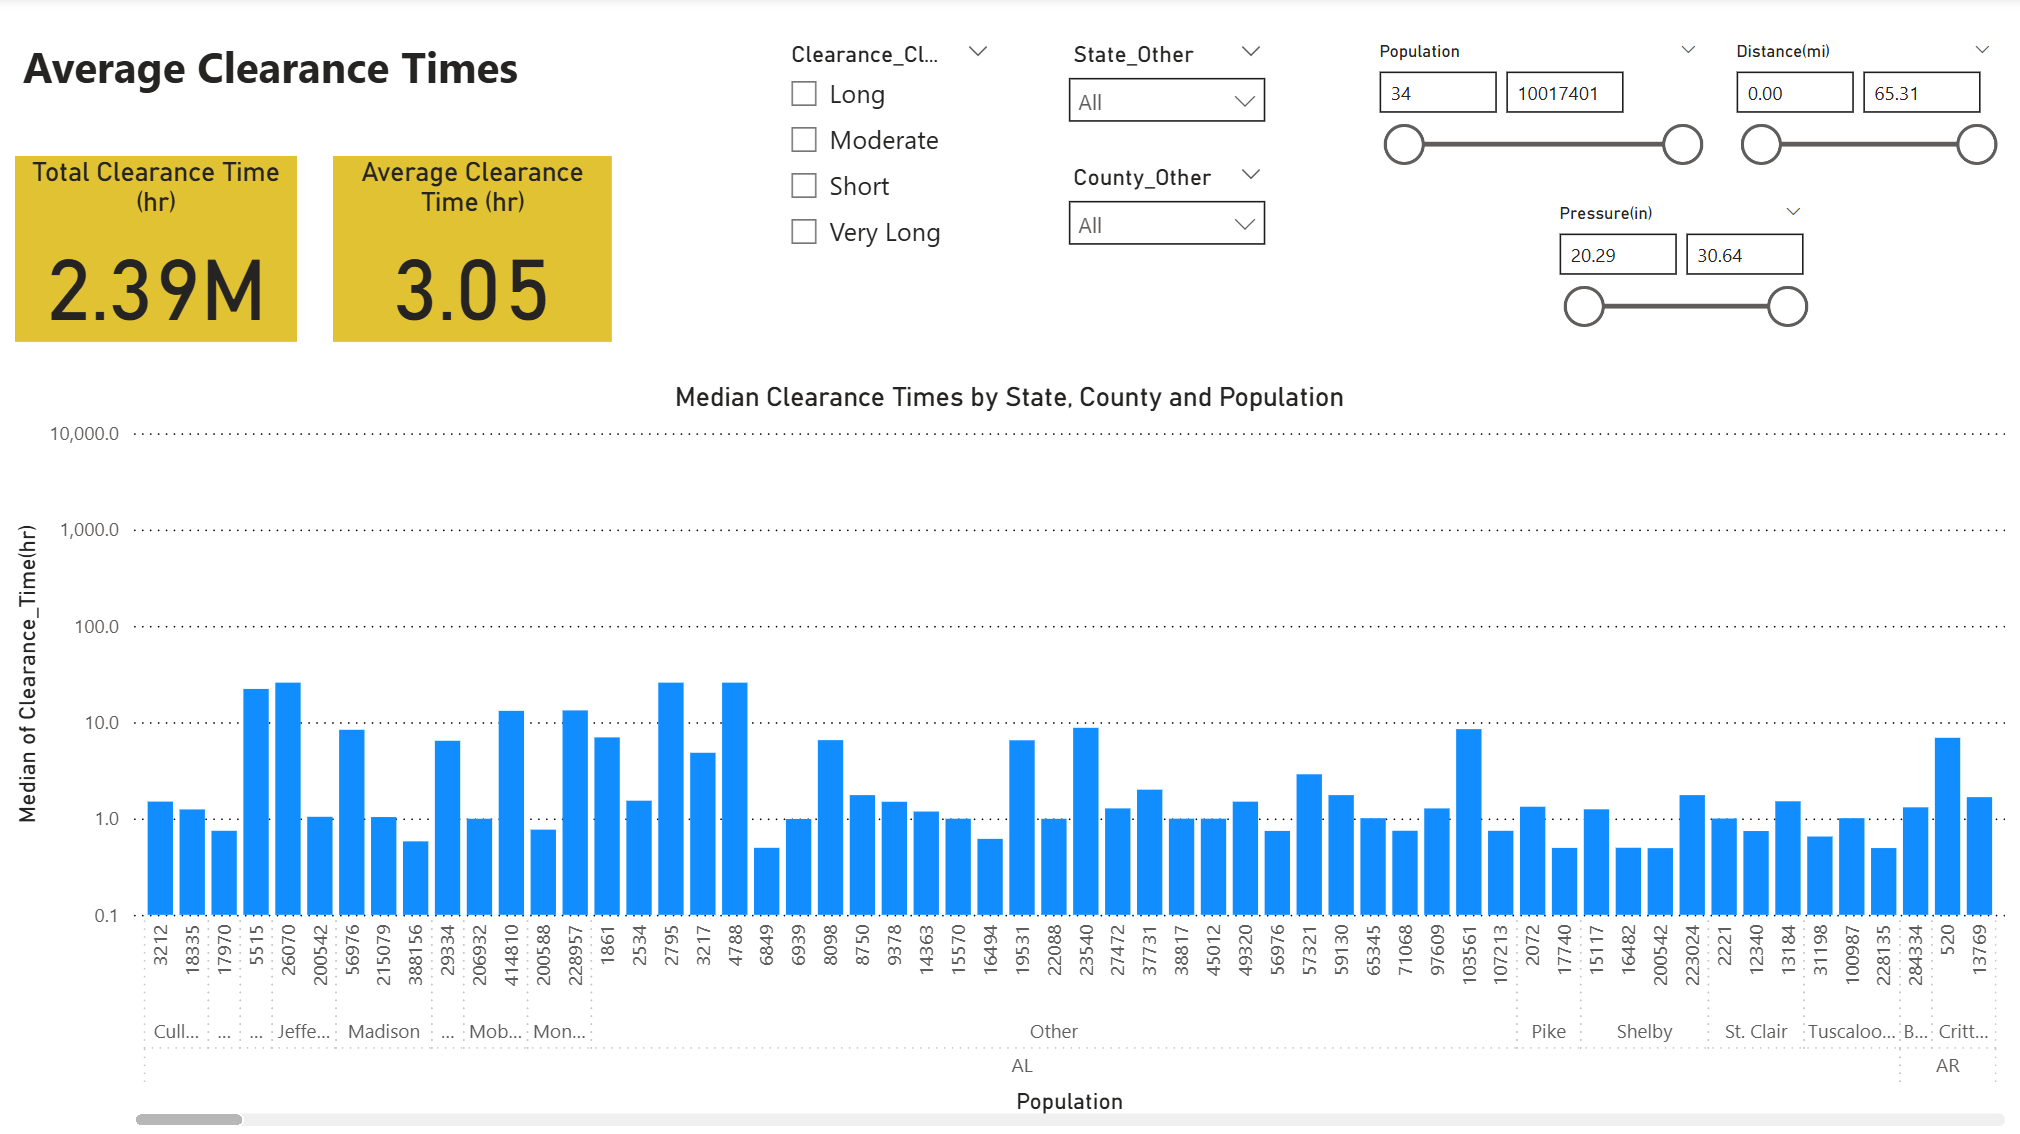

What the dashboard file says about the page in this screenshot:
{"tool":"powerbi","page":{"name":"Median Clearance Times","canvas":[1280,720],"ordinal":1},"visuals":[{"type":"clusteredColumnChart","title":"Median Clearance Times by State, County and Population","fields":{"Y":["Median(US_Accidents_For_Dashboard.Clearance_Time(hr))"],"Category":["US_Accidents_For_Dashboard.State_Other","US_Accidents_For_Dashboard.County_Other","US_Accidents_For_Dashboard.Population"]},"box":[5.7,244.3,1266.7,475.3],"z":0},{"type":"card","title":"Total Clearance Time (hr)","fields":{"Values":["Sum(US_Accidents_For_Dashboard.Clearance_Time(hr))"]},"box":[11.4,102.2,178,117.4],"z":1000},{"type":"card","title":"Average Clearance Time (hr)","fields":{"Values":["Median(US_Accidents_For_Dashboard.Clearance_Time(hr))"]},"box":[212.1,102.2,176.1,117.4],"z":2000},{"type":"slicer","fields":{"Values":["US_Accidents_For_Dashboard.State_Other"]},"box":[666.4,24.6,143.9,77.6],"z":3000},{"type":"slicer","fields":{"Values":["US_Accidents_For_Dashboard.County_Other"]},"box":[666.4,102.2,143.9,70.1],"z":4000},{"type":"slicer","fields":{"Values":["US_Accidents_For_Dashboard.Population"]},"box":[859.6,24.6,225.3,92.8],"z":5000},{"type":"slicer","fields":{"Values":["US_Accidents_For_Dashboard.Distance(mi)"]},"box":[1084.3,25.2,185.6,92.8],"z":6000},{"type":"slicer","fields":{"Values":["US_Accidents_For_Dashboard.Clearance_Class"]},"box":[488.4,24.6,149.6,149.6],"z":7000},{"type":"slicer","fields":{"Values":["US_Accidents_For_Dashboard.Pressure(in)"]},"box":[973.3,126.9,178,96.6],"z":7001},{"type":"textbox","box":[11.4,22.7,399.5,41.7],"z":7002}]}

Visuals, with their boxes in screenshot pixels (x1, y1, x2, y2), scaled from the page's 1280x720 canvas onto the 2020x1134 screenshot:
"Median Clearance Times by State, County and Population" clusteredColumnChart: (x1=9, y1=385, x2=2008, y2=1133)
"Total Clearance Time (hr)" card: (x1=18, y1=161, x2=299, y2=346)
"Average Clearance Time (hr)" card: (x1=335, y1=161, x2=613, y2=346)
slicer - US_Accidents_For_Dashboard.State_Other: (x1=1052, y1=39, x2=1279, y2=161)
slicer - US_Accidents_For_Dashboard.County_Other: (x1=1052, y1=161, x2=1279, y2=271)
slicer - US_Accidents_For_Dashboard.Population: (x1=1357, y1=39, x2=1712, y2=185)
slicer - US_Accidents_For_Dashboard.Distance(mi): (x1=1711, y1=40, x2=2004, y2=186)
slicer - US_Accidents_For_Dashboard.Clearance_Class: (x1=771, y1=39, x2=1007, y2=274)
slicer - US_Accidents_For_Dashboard.Pressure(in): (x1=1536, y1=200, x2=1817, y2=352)
textbox: (x1=18, y1=36, x2=648, y2=101)
